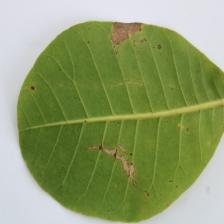leaf miner: (15, 19, 224, 223), (85, 141, 138, 187)
